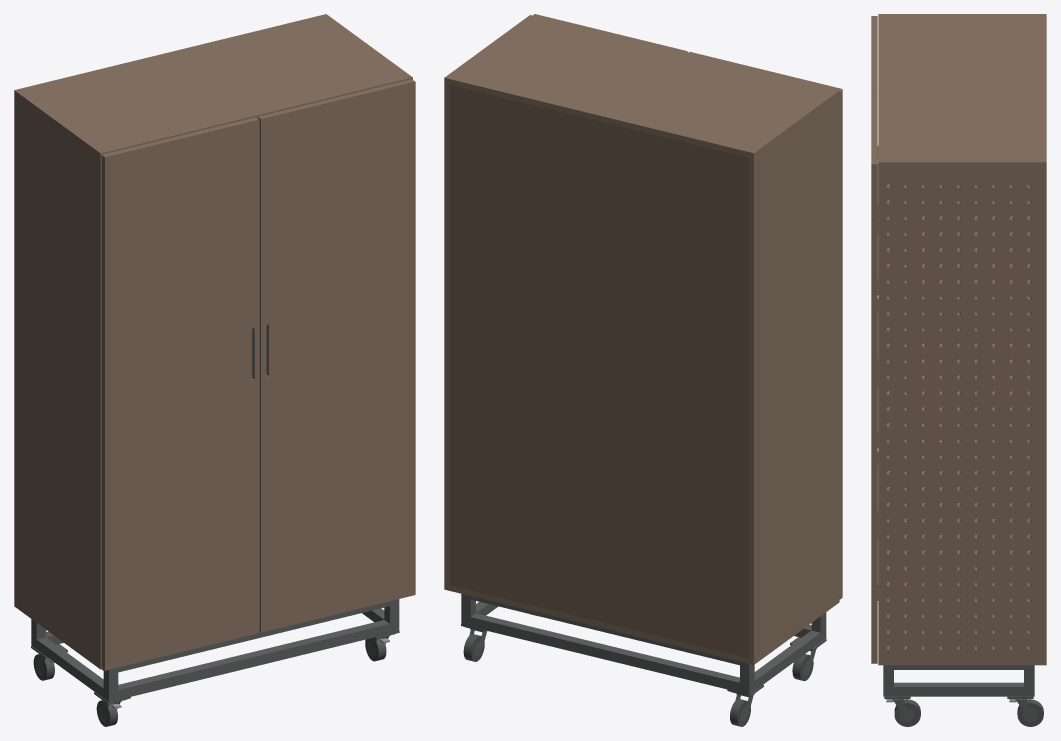
File: closed.glb
The picture shows the model from 3 angles, left to right: view 1: azimuth 30°, elevation 25°; view 2: azimuth 150°, elevation 25°; view 3: azimuth 270°, elevation 25°; orthographic projection. The views are drawn at different scales.
Visible parts, largest first — view 1: B30-door, B31-door, B02-left-side, B01-top, A0-width-0, A1-width-0, A0-depth-0; view 2: B04-back, B02-left-side, B01-top, A0-width-1, B03-right-pegboard, B00-bottom, B30-door, A0-depth-0, A1-width-1; view 3: B03-right-pegboard, B01-top, B31-door, A0-depth-1, B00-bottom, A1-depth-1, B30-door, caster-1-tire, caster-3-tire.
Part boxes in pixels (x1,y1,x2,y2): B30-door: (101, 117, 259, 670); B31-door: (257, 79, 415, 632); B02-left-side: (14, 96, 101, 663); B01-top: (14, 14, 412, 159); A0-width-0: (118, 620, 389, 699); A1-width-0: (118, 601, 389, 672); A0-depth-0: (31, 636, 118, 701); B04-back: (450, 85, 748, 657); B02-left-side: (748, 96, 839, 659); B01-top: (444, 15, 839, 158); A0-width-1: (470, 613, 739, 692); B03-right-pegboard: (444, 83, 449, 584); B00-bottom: (444, 584, 839, 664); B30-door: (688, 52, 842, 599); A0-depth-0: (740, 629, 826, 694); A1-width-1: (470, 596, 739, 665); B03-right-pegboard: (878, 168, 1046, 659); B01-top: (878, 14, 1046, 168); B31-door: (871, 90, 877, 663); A0-depth-1: (883, 682, 1034, 696); B00-bottom: (878, 518, 1046, 665); A1-depth-1: (883, 665, 1034, 669); B30-door: (871, 16, 877, 89); caster-1-tire: (894, 699, 920, 726); caster-3-tire: (1017, 699, 1043, 726).
Bounding box in the file's own units: 1 × 1.8 × 0.5.
